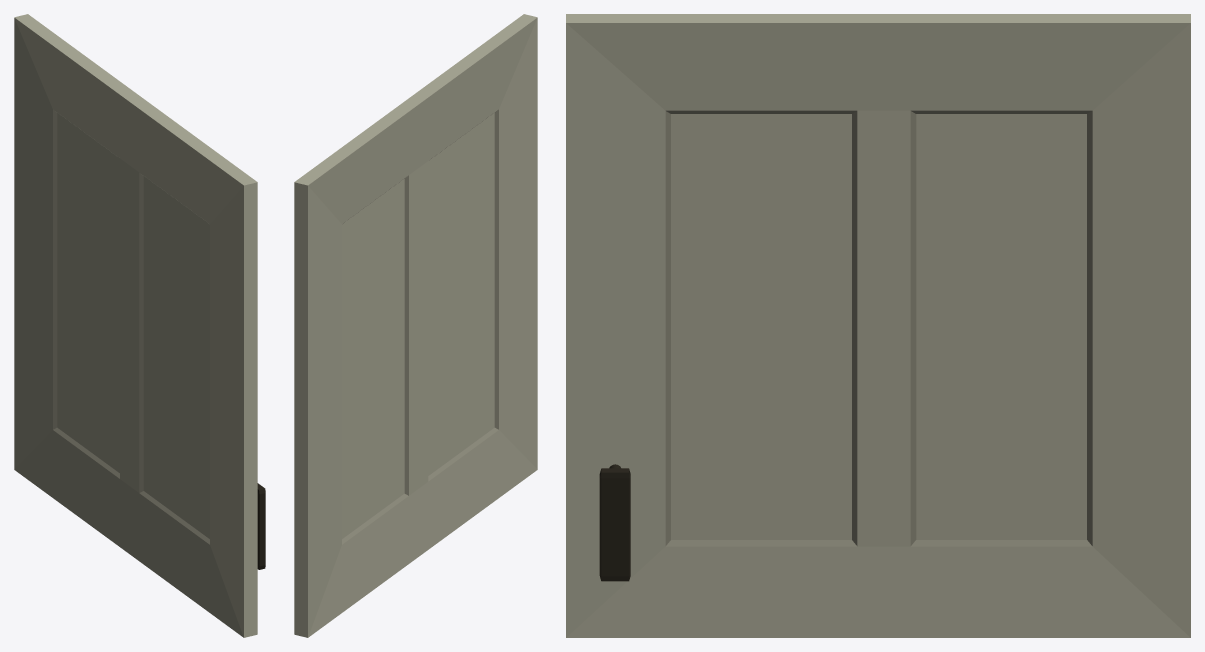
Rendered from UpperCabinetDoorV1.fbx.
3 renders of one model, left to right at view 1: azimuth 30°, elevation 25°; view 2: azimuth 150°, elevation 25°; view 3: azimuth 270°, elevation 25°, orthographic. The views are drawn at different scales.
Visible parts, largest first — view 1: Cube.001; view 2: Cube.001; view 3: Cube.001.
Part boxes in pixels (x1,y1,x2,y2): Cube.001: [14, 14, 265, 637]; Cube.001: [294, 14, 537, 637]; Cube.001: [566, 14, 1190, 637].
Size of the model in its own units: 604 by 52.41 by 656.
